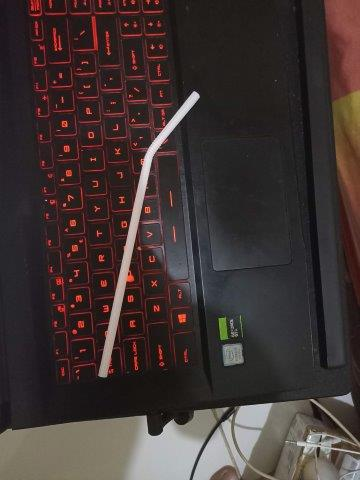sedotan: (98, 92, 199, 377)
